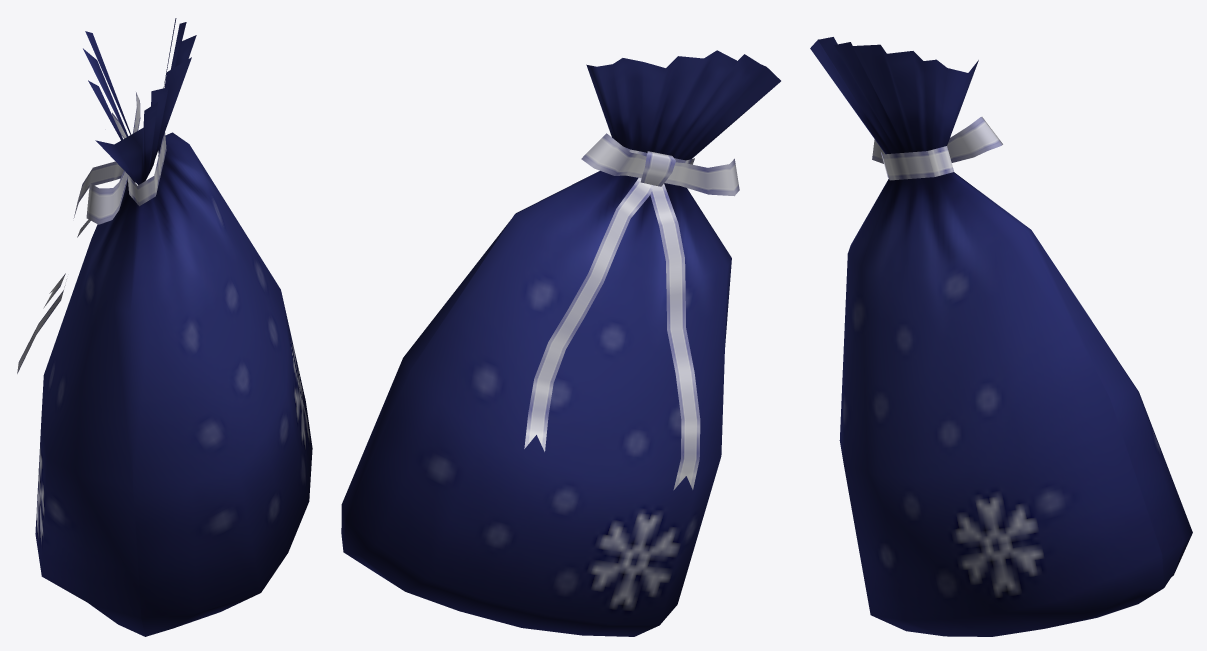
File: GiftBox_C.glb
3 renders of one model, left to right at view 1: azimuth 30°, elevation 25°; view 2: azimuth 150°, elevation 25°; view 3: azimuth 270°, elevation 25°, orthographic. The views are drawn at different scales.
Visible parts, largest first — view 1: PQ_Ch_GiftBox_C(Clone); view 2: PQ_Ch_GiftBox_C(Clone); view 3: PQ_Ch_GiftBox_C(Clone).
Boxes of the visible parts, left/top/right/bottom form: PQ_Ch_GiftBox_C(Clone): left=17, top=18, right=312, bottom=636; PQ_Ch_GiftBox_C(Clone): left=341, top=50, right=780, bottom=636; PQ_Ch_GiftBox_C(Clone): left=810, top=37, right=1192, bottom=636.
Bounding box in the file's own units: 23.13 × 40.76 × 24.7.
Materials: 2 (2 with a texture image).
